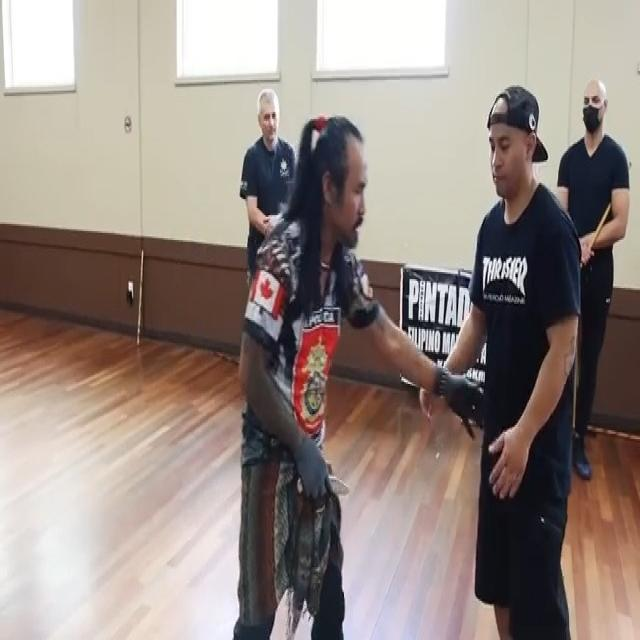Sharp-Object: (298, 470, 349, 503)
